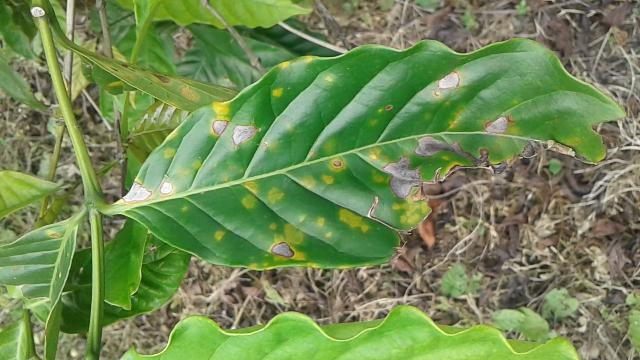rust_level_3: (113, 40, 624, 270)
